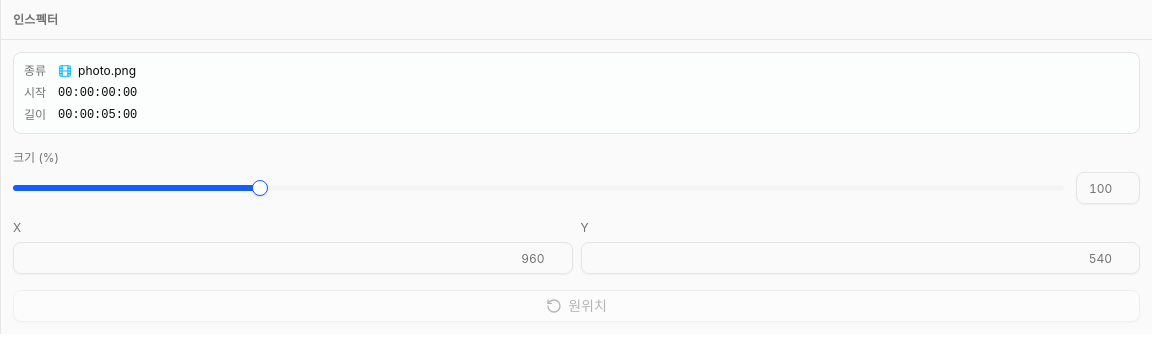
Test case: InspectorPanel › 클립을 선택하면 위치·크기를 바꾸고 원위치로 되돌린다
The width and height of the screenshot is (1152, 351).
Check: the number field labelled "X" holds "960", box x1=13 y1=242 x2=572 y2=274
Check: the button "원위치" is disabled, box x1=13 y1=290 x2=1140 y2=322
Replace the text in the number field named "크기 값" with "50". click: x=1108, y=188
box: x1=1076 y1=172 x2=1140 y2=204
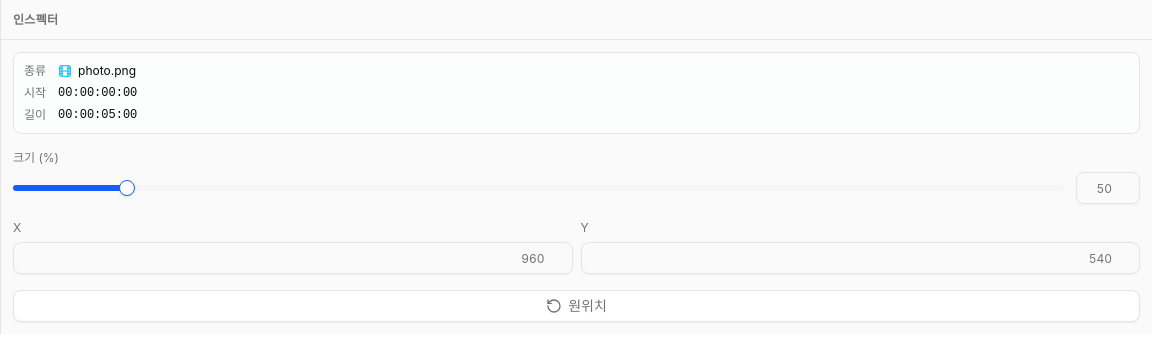
Replace the text in the number field labelled "X" with "400". click: x=293, y=258
box: x1=13 y1=242 x2=572 y2=274
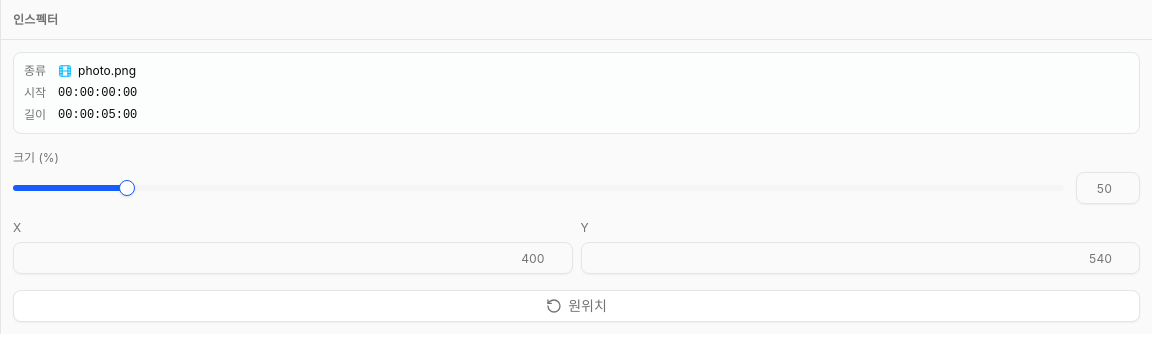
Click the button "원위치". click: x=576, y=306
box: x1=13 y1=290 x2=1140 y2=322
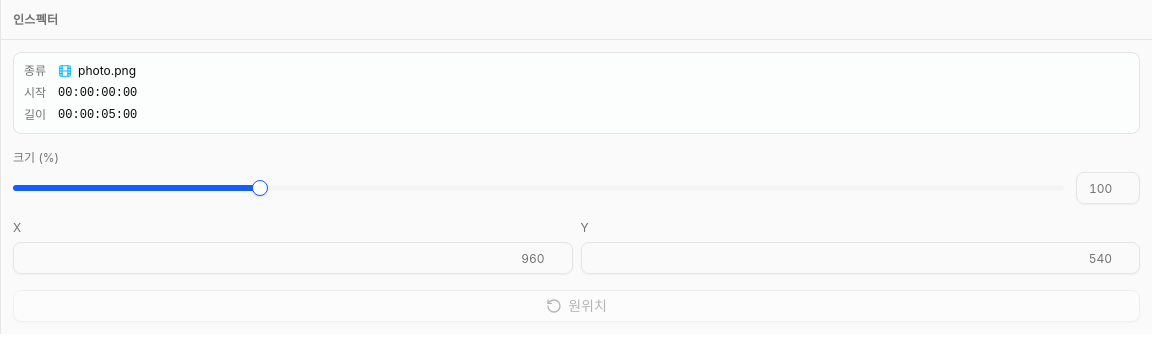
Check: the number field named "크기 값" holds "100", box x1=1076 y1=172 x2=1140 y2=204
